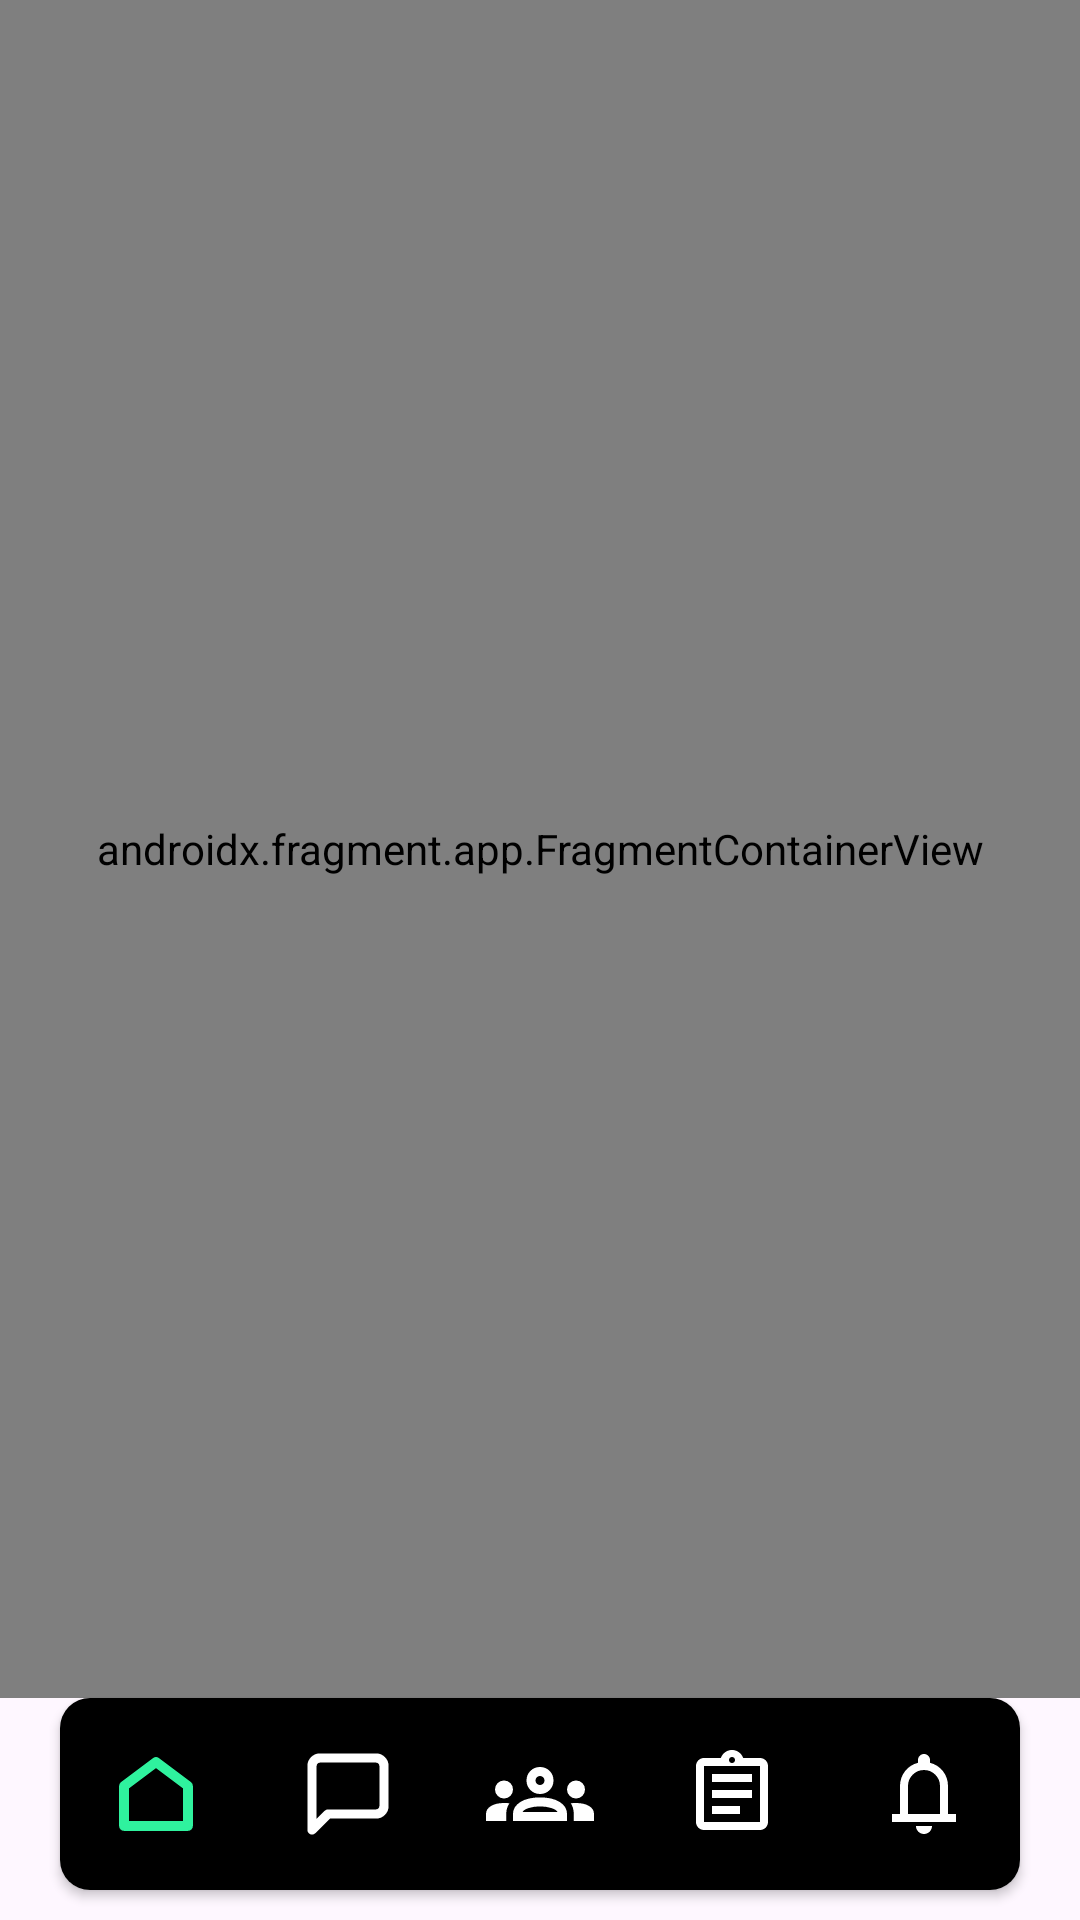

Screen size 1080px x 1920px. Icon name, then its center in pixels as (x=x, y=y):
Chat: (x=348, y=1794)
Home: (x=156, y=1794)
Notifications: (x=924, y=1794)
Spaces: (x=540, y=1794)
Tasks: (x=732, y=1790)
